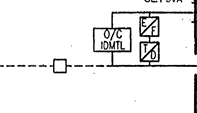Cable Termination Box: (46, 50, 71, 79)
